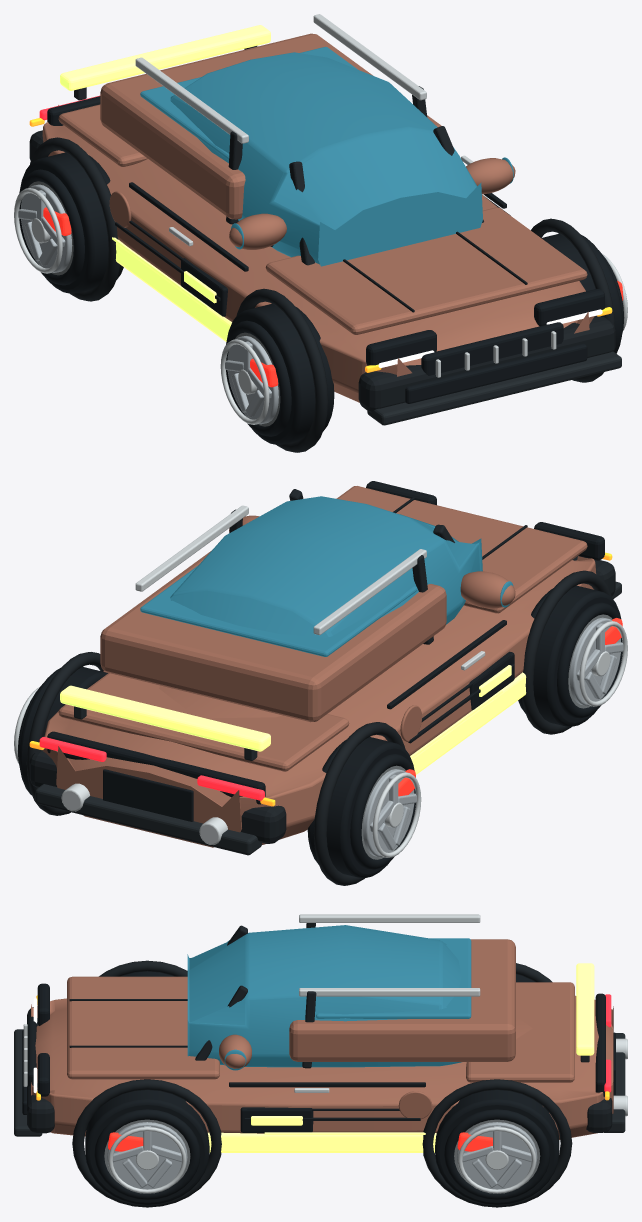
File: wagon.glb
The picture shows the model from 3 angles, top to bottom: view 1: azimuth 30°, elevation 25°; view 2: azimuth 150°, elevation 25°; view 3: azimuth 270°, elevation 25°; orthographic projection. The views are drawn at different scales.
Visible parts, largest first — view 1: continuous smoked glass cabin.005, sculpted one-piece body shell.005, front hood skin.005, wagon long cargo roof, left wheel tire.010, left wheel tire.011, front bumper fascia.005, front carbon splitter.005, rear spoiler blade.005, lower front intake surround.005, left front fender arch bead.005, upper front grille surround.005 (+23 smaller); view 2: sculpted one-piece body shell.005, continuous smoked glass cabin.005, wagon long cargo roof, front hood skin.005, rear deck skin.005, left wheel tire.011, left wheel tire.010, rear spoiler blade.005, wagon panoramic roof, rear diffuser center.005, left rear fender arch bead.005, rear plate shadow recess.005 (+24 smaller); view 3: continuous smoked glass cabin.005, sculpted one-piece body shell.005, wagon long cargo roof, front hood skin.005, rear deck skin.005, right wheel tire.010, right wheel tire.011, right aerodynamic side sill.005, right front fender arch bead.005, right rear fender arch bead.005, right tire sidewall bead.011, right tire sidewall bead.010 (+29 smaller).
Part boxes in pixels (x1=…): continuous smoked glass cabin.005: x1=170, y1=52, x2=482, y2=266; sculpted one-piece body shell.005: x1=42, y1=105, x2=594, y2=402; front hood skin.005: x1=265, y1=207, x2=587, y2=334; wagon long cargo roof: x1=100, y1=33, x2=441, y2=219; left wheel tire.010: x1=227, y1=304, x2=334, y2=444; left wheel tire.011: x1=20, y1=152, x2=123, y2=293; front bumper fascia.005: x1=358, y1=316, x2=615, y2=412; front carbon splitter.005: x1=367, y1=351, x2=621, y2=425; rear spoiler blade.005: x1=60, y1=25, x2=270, y2=90; lower front intake surround.005: x1=405, y1=343, x2=587, y2=403; left front fender arch bead.005: x1=236, y1=288, x2=328, y2=452; upper front grille surround.005: x1=421, y1=322, x2=563, y2=375; sculpted one-piece body shell.005: x1=42, y1=556, x2=596, y2=847; continuous smoked glass cabin.005: x1=170, y1=496, x2=482, y2=638; wagon long cargo roof: x1=100, y1=550, x2=446, y2=722; front hood skin.005: x1=336, y1=486, x2=587, y2=613; rear deck skin.005: x1=58, y1=673, x2=349, y2=771; left wheel tire.011: x1=307, y1=737, x2=414, y2=878; left wheel tire.010: x1=518, y1=585, x2=621, y2=726; rear spoiler blade.005: x1=60, y1=685, x2=270, y2=751; wagon panoramic roof: x1=140, y1=566, x2=417, y2=656; rear diffuser center.005: x1=35, y1=784, x2=261, y2=855; left rear fender arch bead.005: x1=313, y1=722, x2=405, y2=885; rear plate shadow recess.005: x1=103, y1=769, x2=193, y2=821; continuous smoked glass cabin.005: x1=187, y1=925, x2=461, y2=1067; sculpted one-piece body shell.005: x1=31, y1=995, x2=613, y2=1139; wagon long cargo roof: x1=289, y1=939, x2=515, y2=1061; front hood skin.005: x1=67, y1=976, x2=219, y2=1079; rear deck skin.005: x1=466, y1=982, x2=574, y2=1082; right wheel tire.010: x1=85, y1=1090, x2=209, y2=1205; right wheel tire.011: x1=435, y1=1090, x2=559, y2=1205; right aerodynamic side sill.005: x1=208, y1=1132, x2=436, y2=1152; right front fender arch bead.005: x1=72, y1=1079, x2=221, y2=1207; right rear fender arch bead.005: x1=422, y1=1079, x2=572, y2=1207; right tire sidewall bead.011: x1=444, y1=1109, x2=550, y2=1199; right tire sidewall bead.010: x1=94, y1=1109, x2=200, y2=1199.
Bounding box in the file's own units: 3.01 × 1.91 × 5.21.
